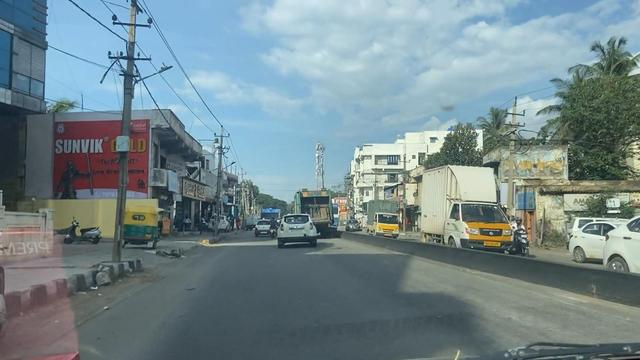LMV: (278, 215, 317, 251)
